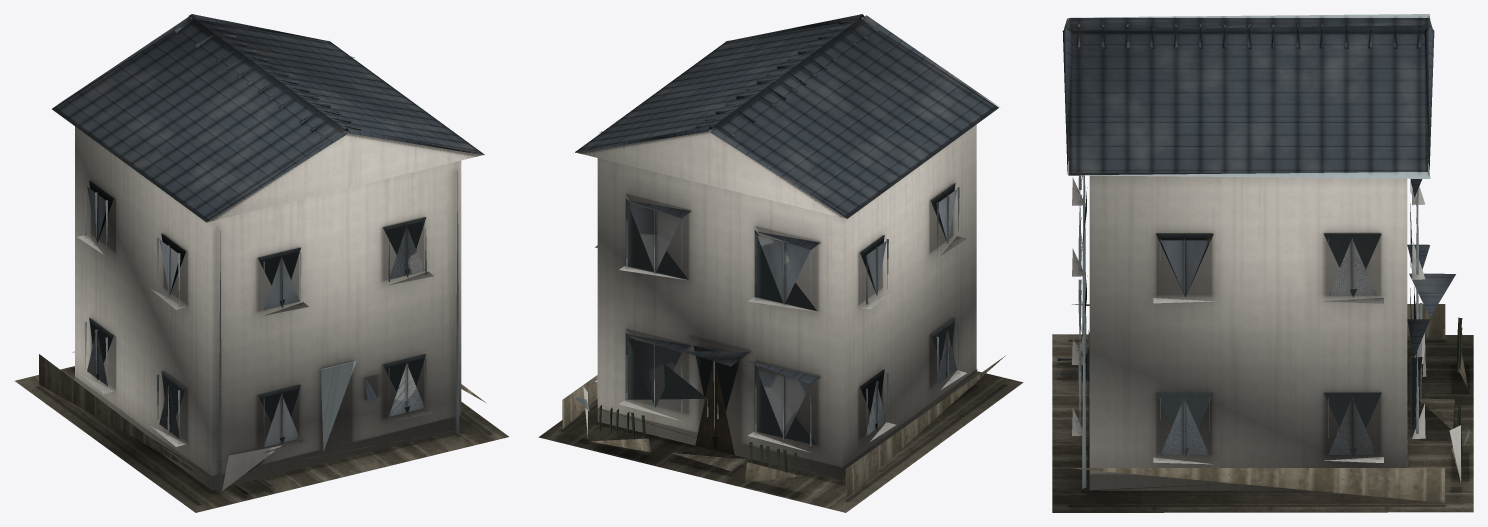
File: residential_011.lod2.obj
The picture shows the model from 3 angles, left to right: view 1: azimuth 30°, elevation 25°; view 2: azimuth 150°, elevation 25°; view 3: azimuth 270°, elevation 25°; orthographic projection. The views are drawn at different scales.
Parts seen in each view (by area): view 1: residential_011; view 2: residential_011; view 3: residential_011.
Boxes of the visible parts, x1,y1,x2,y2 form: residential_011: (15, 14, 508, 512); residential_011: (538, 14, 1023, 512); residential_011: (1052, 14, 1473, 512).
Bounding box in the file's own units: 7.25 × 7.56 × 7.25.
Materials: 1 (1 with a texture image).
